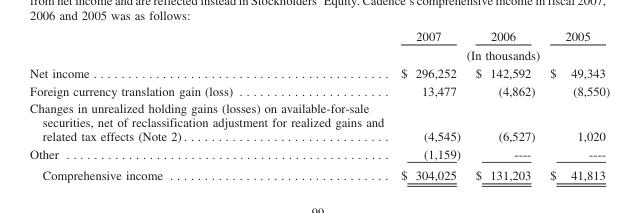table: (29, 29, 609, 182)
table column: (29, 29, 391, 182), (391, 29, 467, 182), (467, 29, 541, 182), (541, 29, 609, 182)
table column header: (29, 29, 609, 63)
table row: (29, 99, 609, 144), (29, 144, 609, 164), (29, 45, 609, 63), (29, 63, 609, 81), (29, 81, 609, 99), (29, 164, 609, 182), (29, 29, 609, 45)
table spanning cell: (391, 45, 609, 63)
